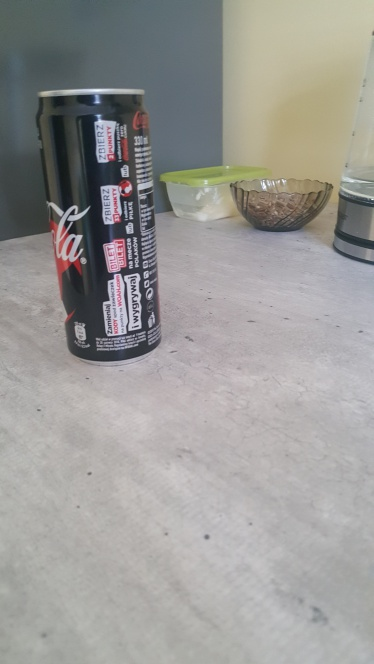colazero: (38, 85, 162, 356)
